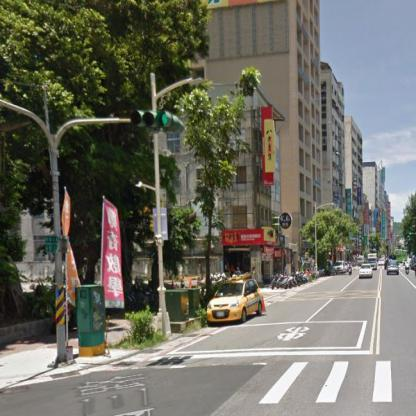Green Light: (129, 109, 176, 131)
